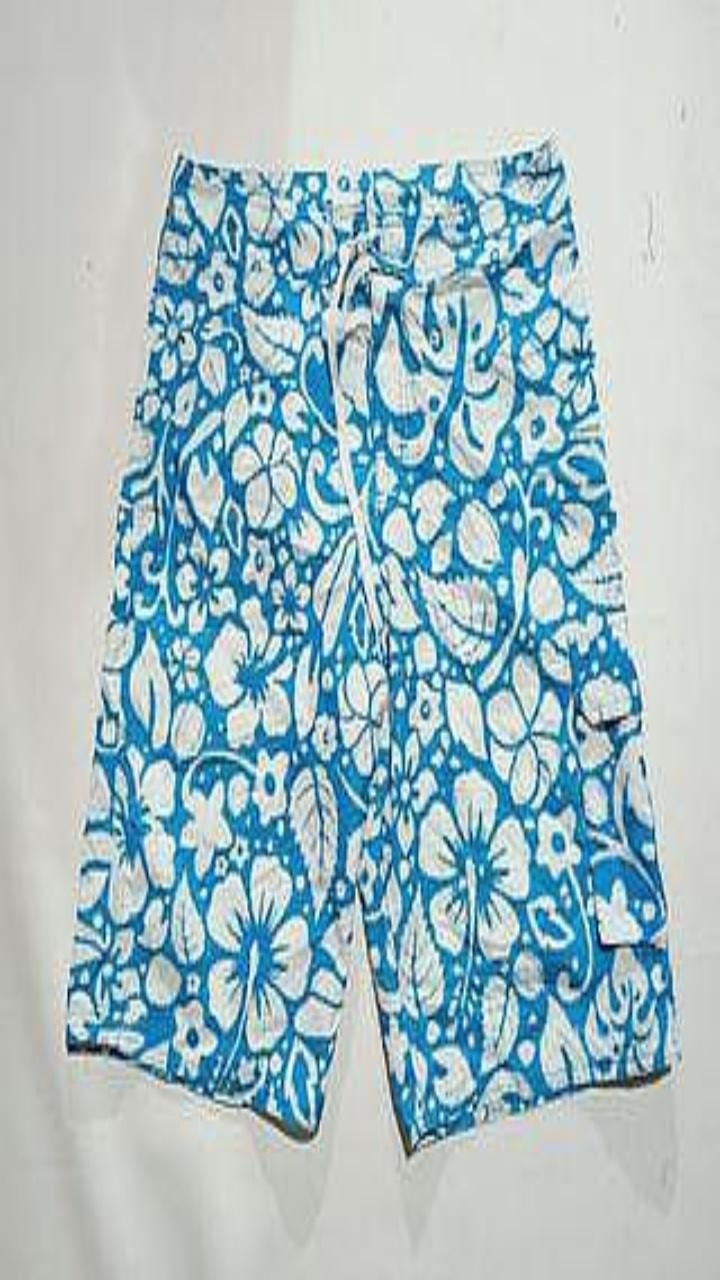Shorts: (67, 138, 679, 1153)
